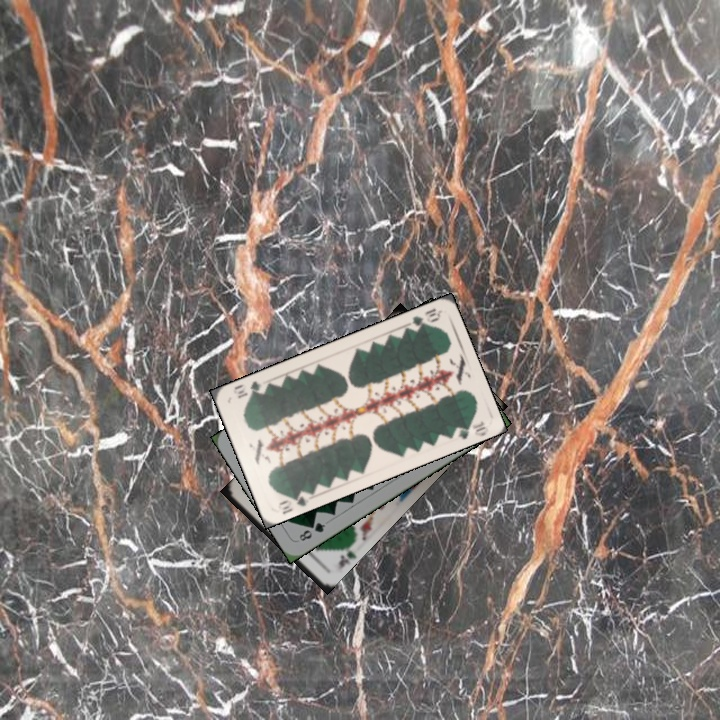G10: (403, 304, 443, 333), (275, 487, 312, 516)
G8: (295, 518, 328, 544)
GK: (334, 540, 358, 572)
